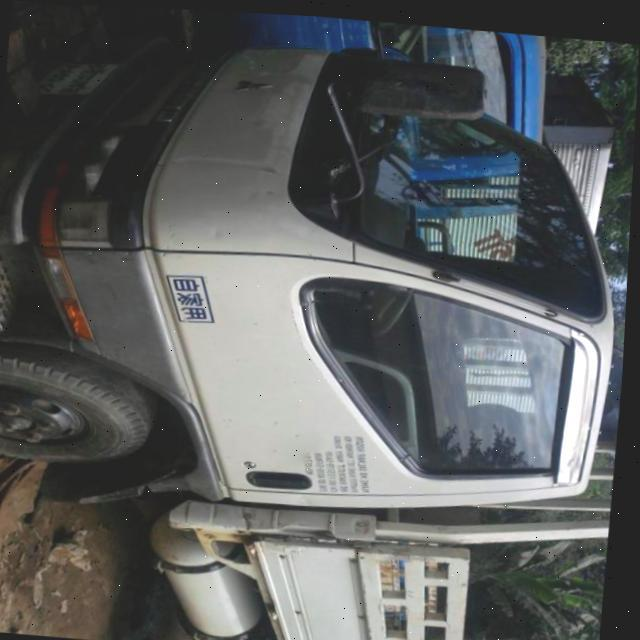truck: (0, 21, 639, 640)
